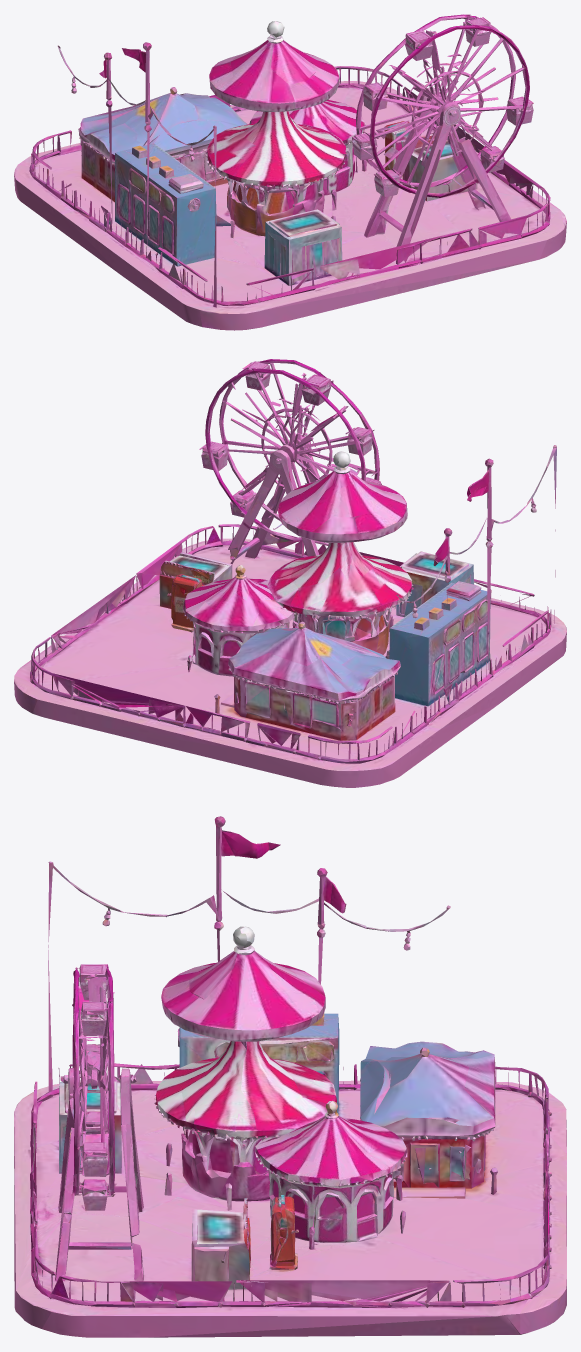
File: ilha-martelo.glb
The picture shows the model from 3 angles, top to bottom: view 1: azimuth 30°, elevation 25°; view 2: azimuth 150°, elevation 25°; view 3: azimuth 270°, elevation 25°; orthographic projection. The views are drawn at different scales.
Bounding box in the file's own units: 1.9 × 1.12 × 1.89.
Materials: 1 (1 with a texture image).
